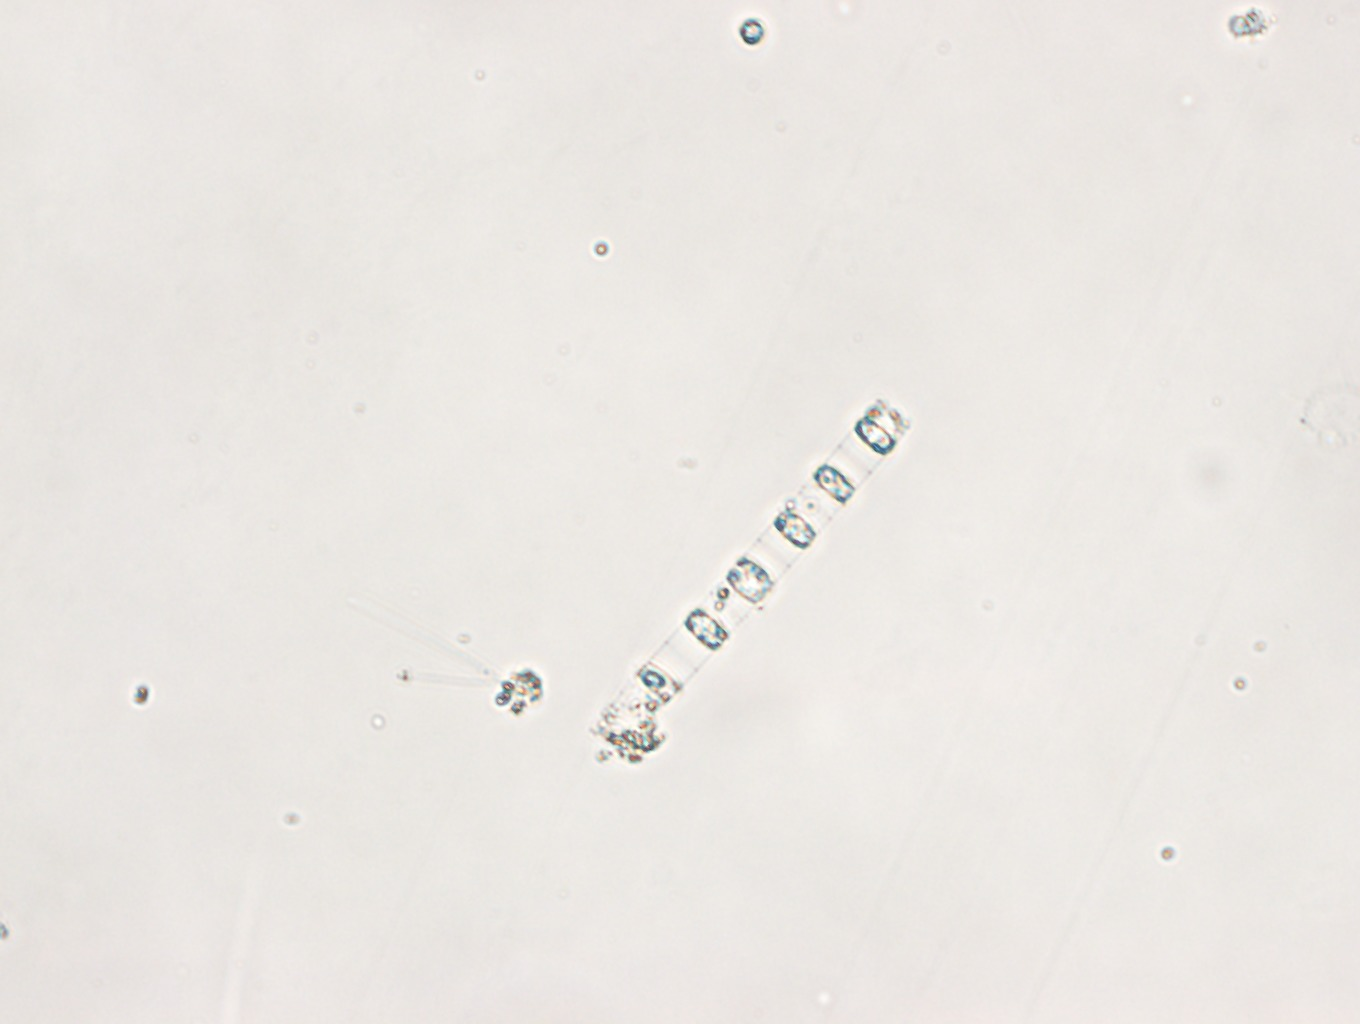skeletonema: (588, 395, 913, 765)
